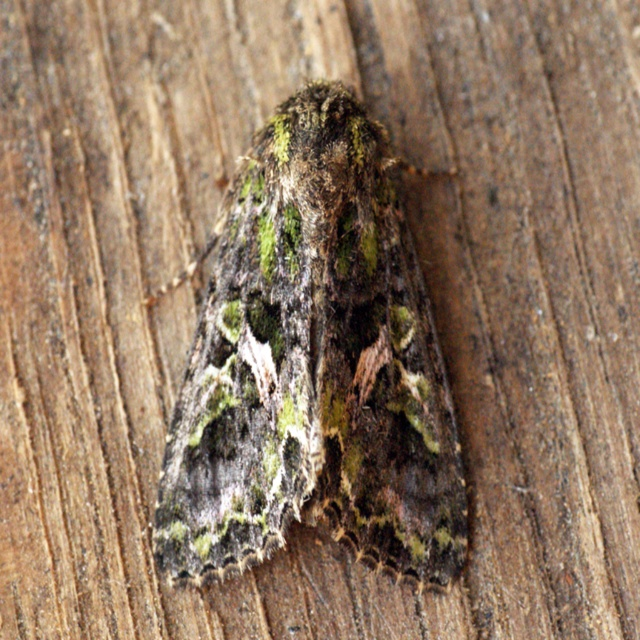Moths and butterflies: (143, 73, 469, 601)
